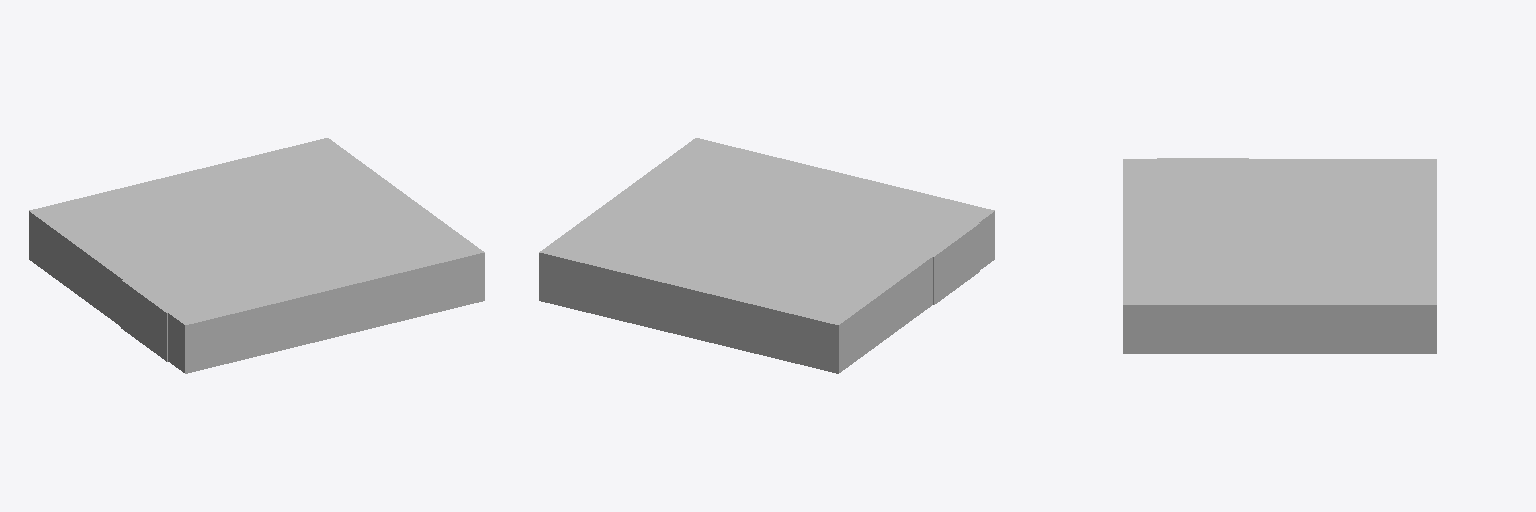
The model's file is Room1HitboxData.obj.
The picture shows the model from 3 angles: view 1: azimuth 30°, elevation 25°; view 2: azimuth 150°, elevation 25°; view 3: azimuth 270°, elevation 25°; orthographic projection.
Parts seen in each view (by area): view 1: Big_Cube.001, Cube.017_Cube.000, Cube.001_Cube.003, Cube_Cube.002; view 2: Big_Cube.001, Cube.017_Cube.000, Cube_Cube.002; view 3: Big_Cube.001, Cube.001_Cube.003.
Part boxes in pixels (x1,y1,x2,y2): Big_Cube.001: (29, 138, 484, 373); Cube.017_Cube.000: (121, 280, 167, 361); Cube.001_Cube.003: (30, 214, 483, 328); Cube_Cube.002: (30, 258, 484, 373); Big_Cube.001: (539, 138, 994, 373); Cube.017_Cube.000: (932, 223, 979, 304); Cube_Cube.002: (539, 257, 994, 373); Big_Cube.001: (1123, 159, 1436, 353); Cube.001_Cube.003: (1123, 305, 1436, 308).
Size of the model in its own units: 90.81 by 14 by 82.